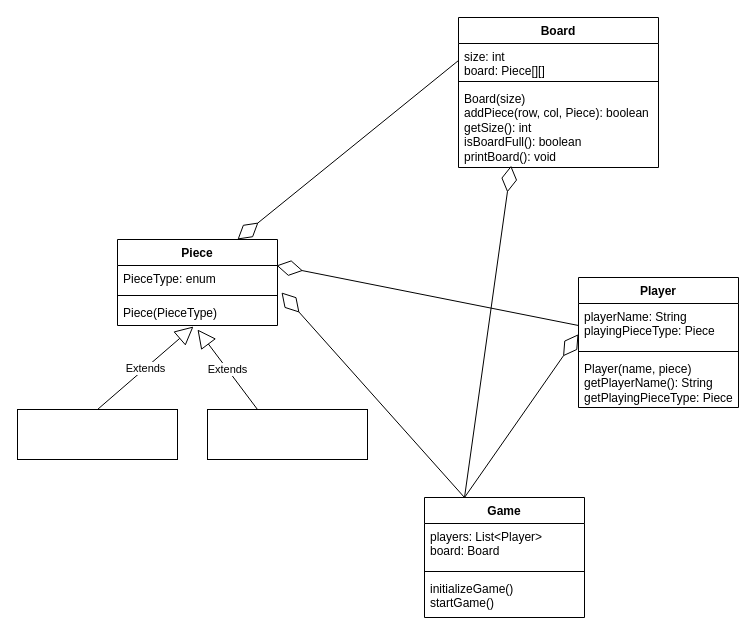
Image size: 756x638. Some labels were removed from this diagram. The shapes that lost their labels are listed below. From the top down, each one's centre as x and y in pixels, then its label:
the point at 97,434: PieceX PieceX()
the point at 287,434: PieceO PieceO()
